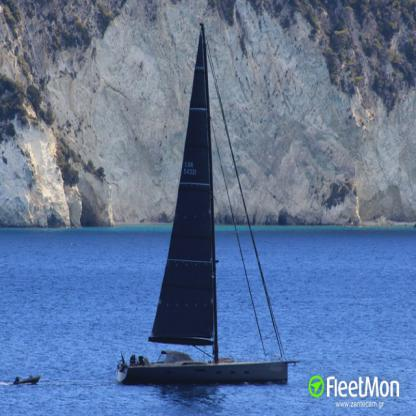Sails Boat: (116, 22, 305, 385)
